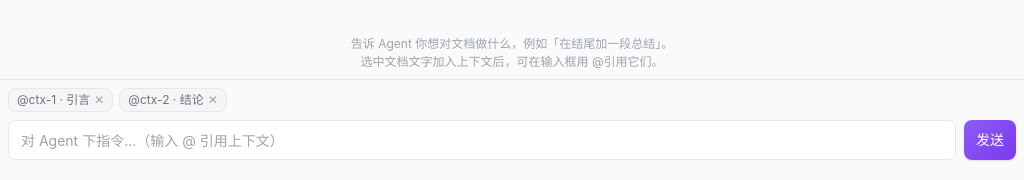
Test: AgentPanel — @ mention autocomplete › inserts the selected reference via mouse click
In the text box with placeholder "对 Agent 下指令…（输入 @ 引用上下文）": (482, 140) [8, 120, 956, 160], type "把 @"
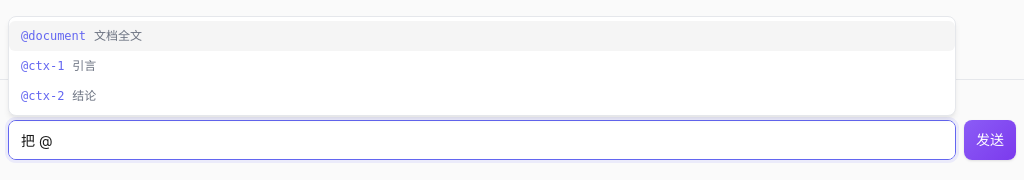
Click the text "@document": (54, 36) [21, 27, 86, 45]
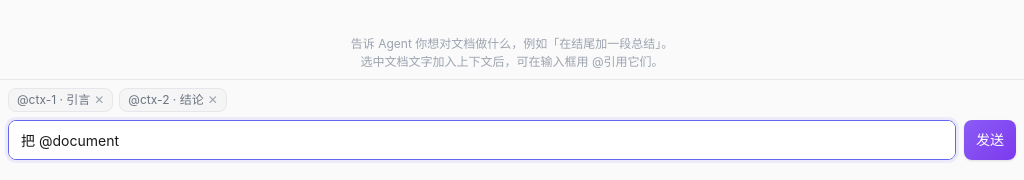
Expected: the text box with placeholder "对 Agent 下指令…（输入 @ 引用上下文）" holds "把 @document ", [8, 120, 956, 160]
